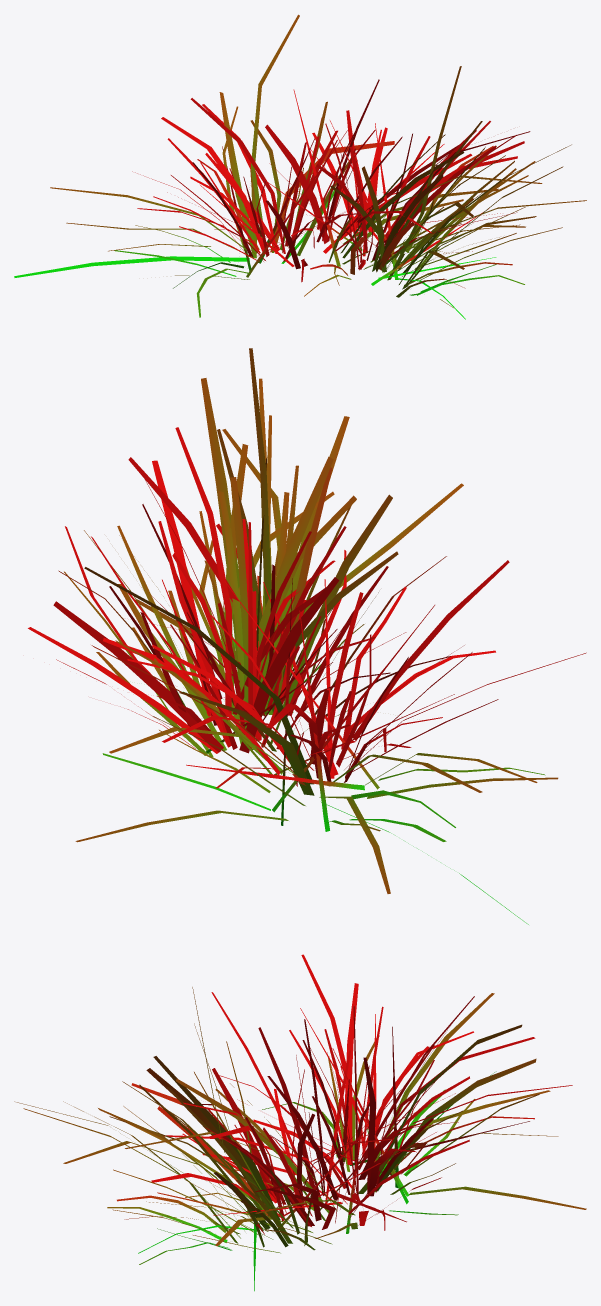
The model's file is vegetation_15.fbx.
3 views of the same model, one above another, from view 1: azimuth 30°, elevation 25°; view 2: azimuth 150°, elevation 25°; view 3: azimuth 270°, elevation 25° (orthographic). The views are drawn at different scales.
Parts seen in each view (by area): view 1: _q9ta_Var6_; view 2: _q9ta_Var6_; view 3: _q9ta_Var6_.
Part boxes in pixels (box(x1,y1,x2,y2)): _q9ta_Var6_: box(14, 14, 586, 319); _q9ta_Var6_: box(28, 348, 586, 924); _q9ta_Var6_: box(14, 954, 586, 1291).
Bounding box in the file's own units: 28.93 × 15.66 × 28.79.
